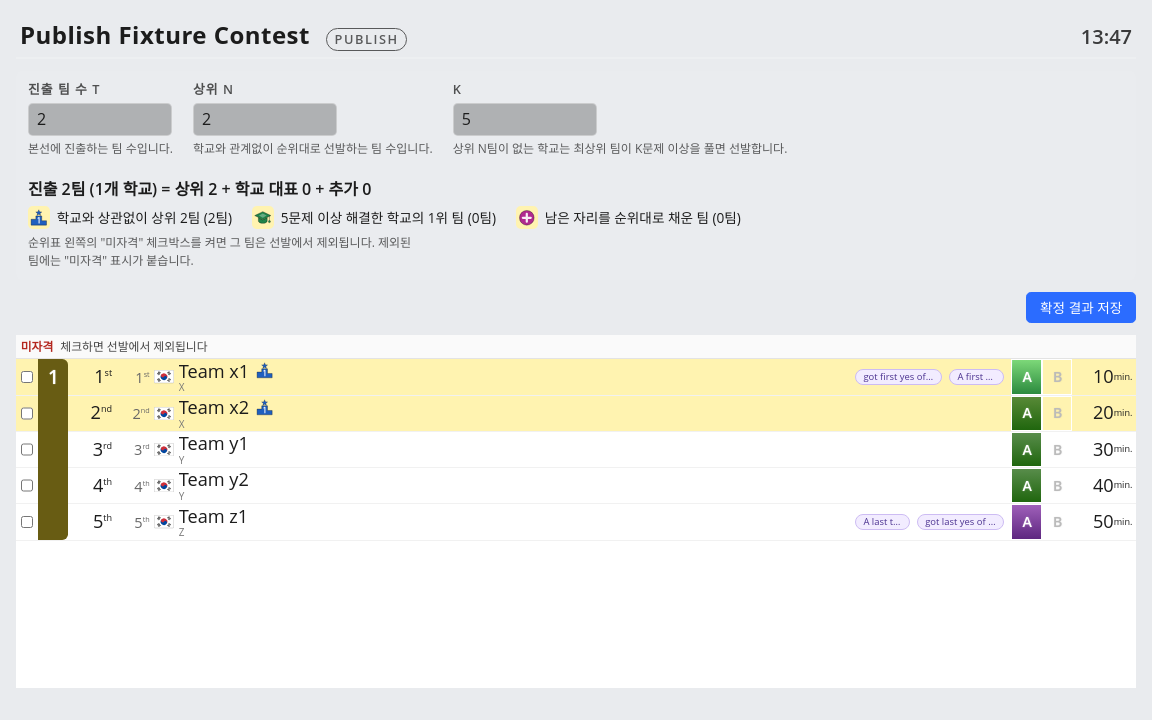
Test: PublishView preliminary mode › preliminary: a checked team shows a 미자격 badge and the summary counts it
Click the checkbox named "Team x1 미자격" at x=27, y=377, box [20, 370, 33, 383]
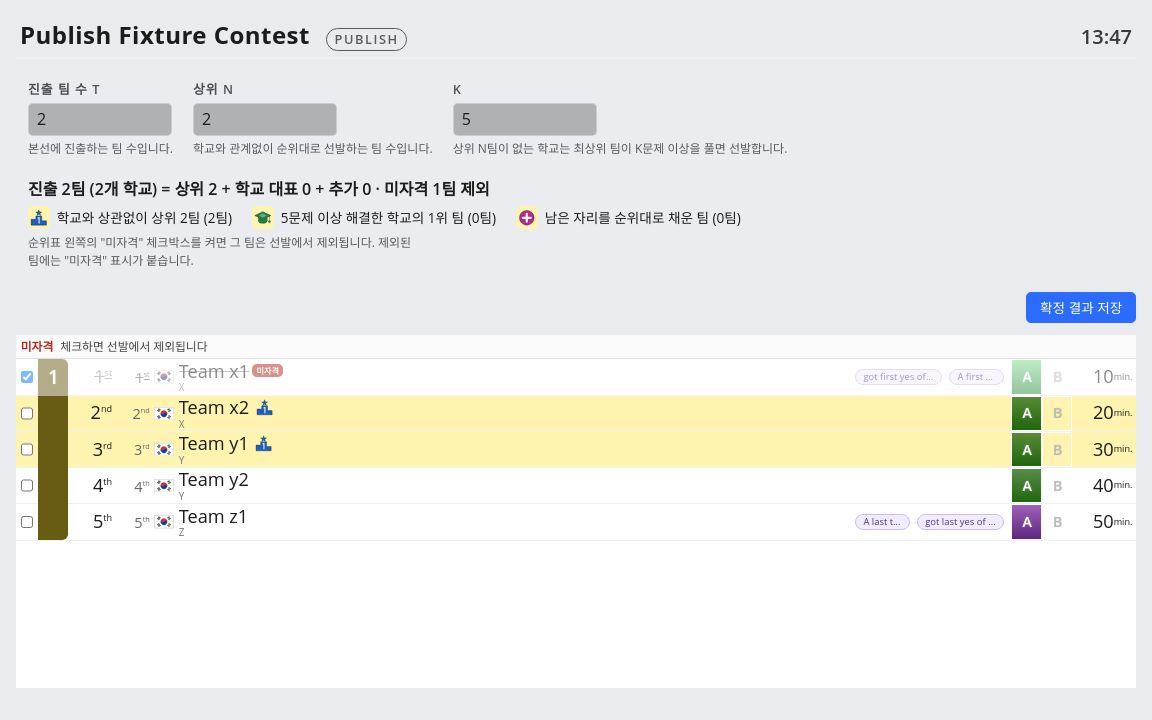
Now the text with class "team-row-notice" reads "미자격", box [256, 365, 279, 376]
Now the message "진출 2팀 (2개 학교) = 상위 2 + 학교 대표 0 + 추가 0 · 미자격 1팀 제외" is shown, box [28, 178, 490, 200]
Click the checkbox named "Team x2 미자격" at x=27, y=413, box [20, 407, 33, 420]
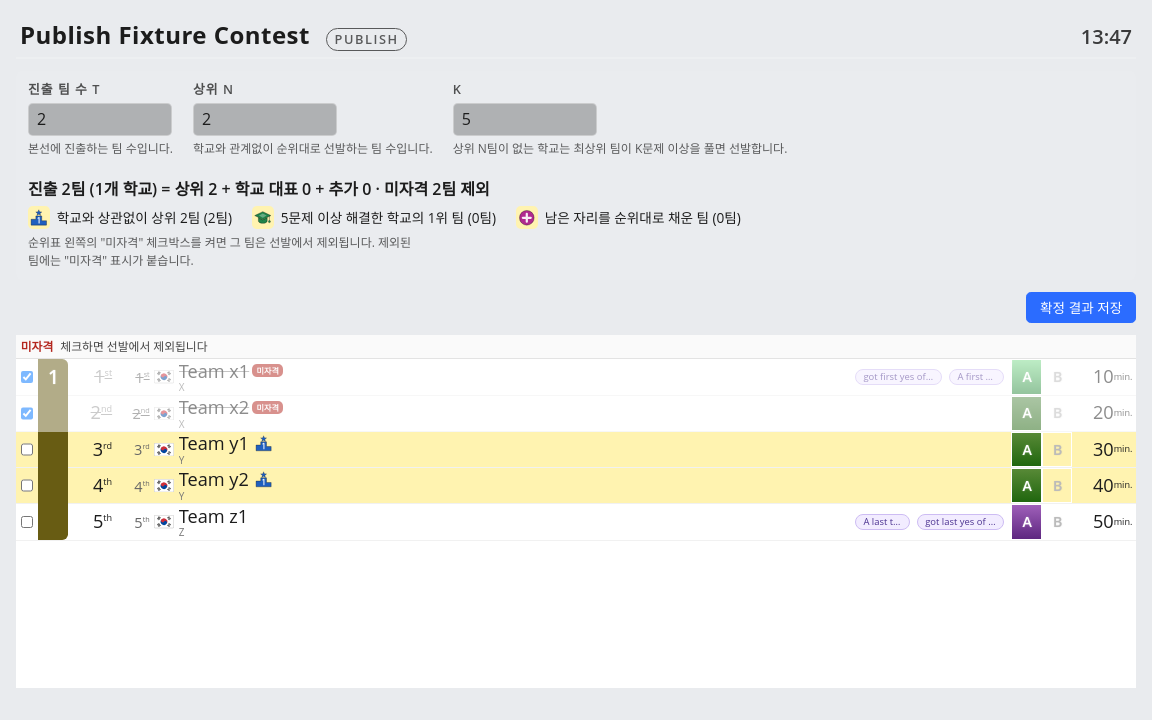
Now the message "진출 2팀 (1개 학교) = 상위 2 + 학교 대표 0 + 추가 0 · 미자격 2팀 제외" is shown, box [28, 178, 490, 200]
Note: Unchecking removes the badge and the count.
Click the checkbox named "Team x1 미자격" at x=27, y=377, box [20, 370, 33, 383]
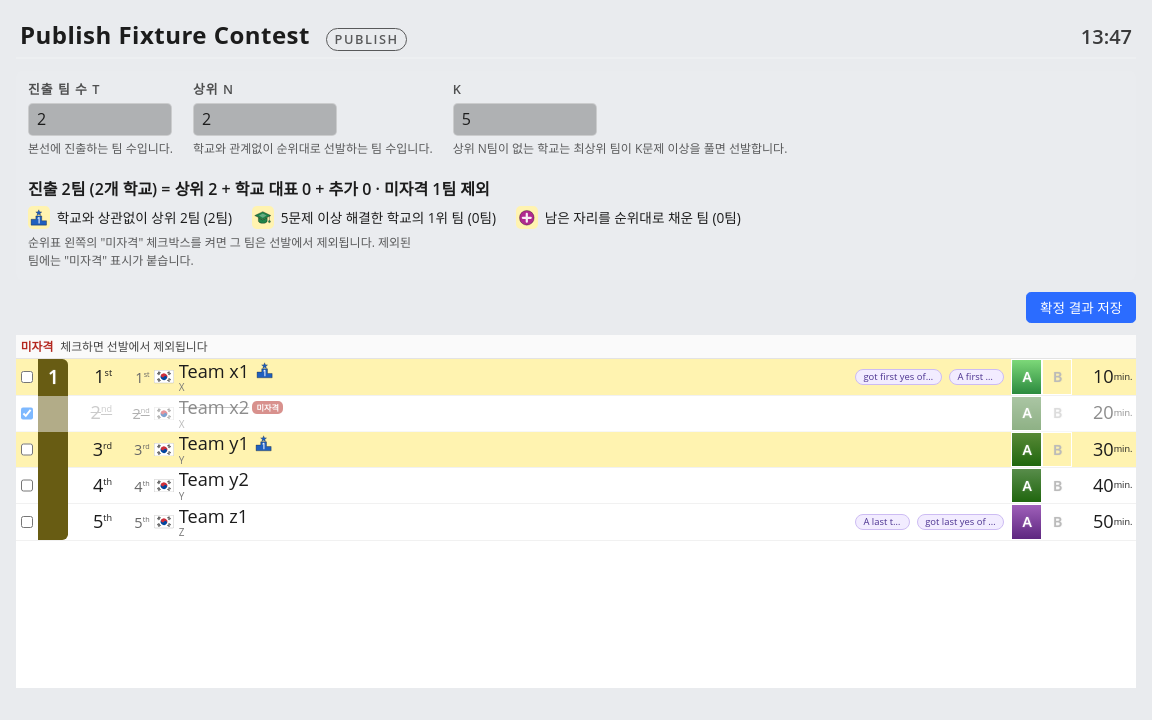
Click the checkbox named "Team x2 미자격" at x=27, y=413, box [20, 407, 33, 420]
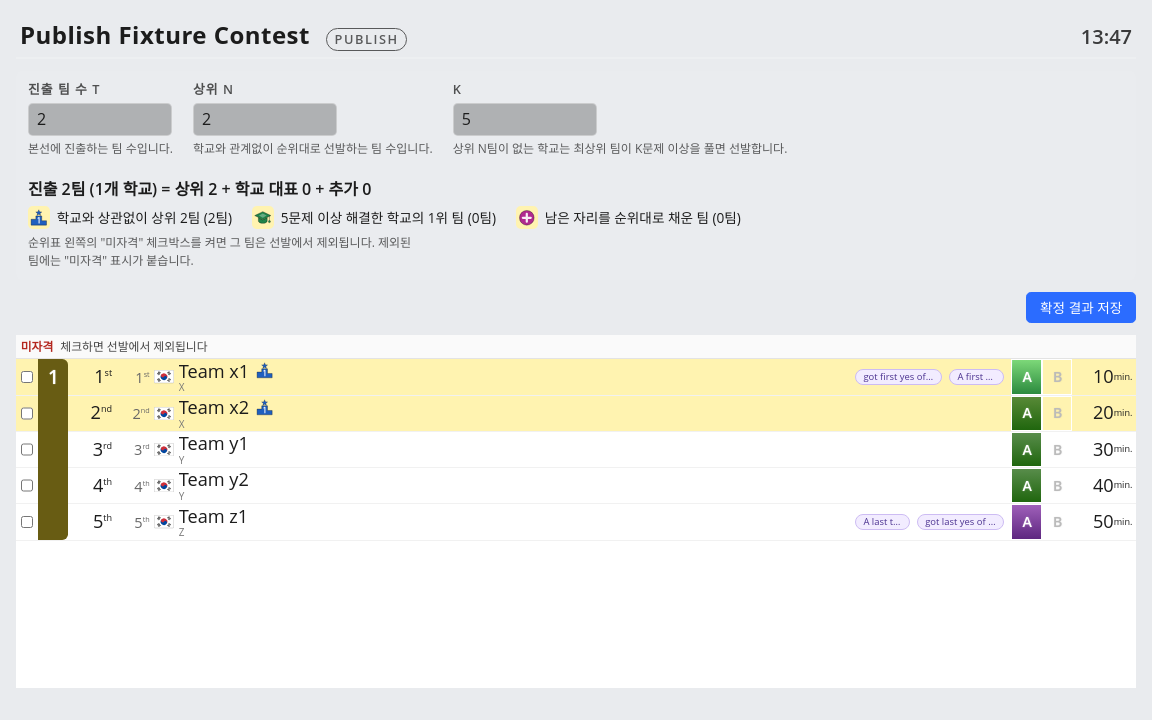
Now the text with class "team-row-notice" is gone
Now the text "미자격" is gone
